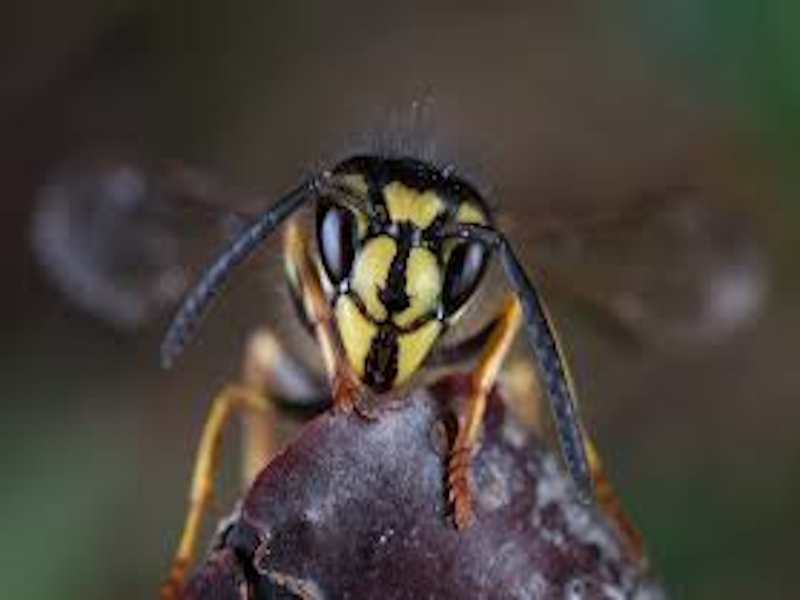chax: (141, 114, 617, 548)
